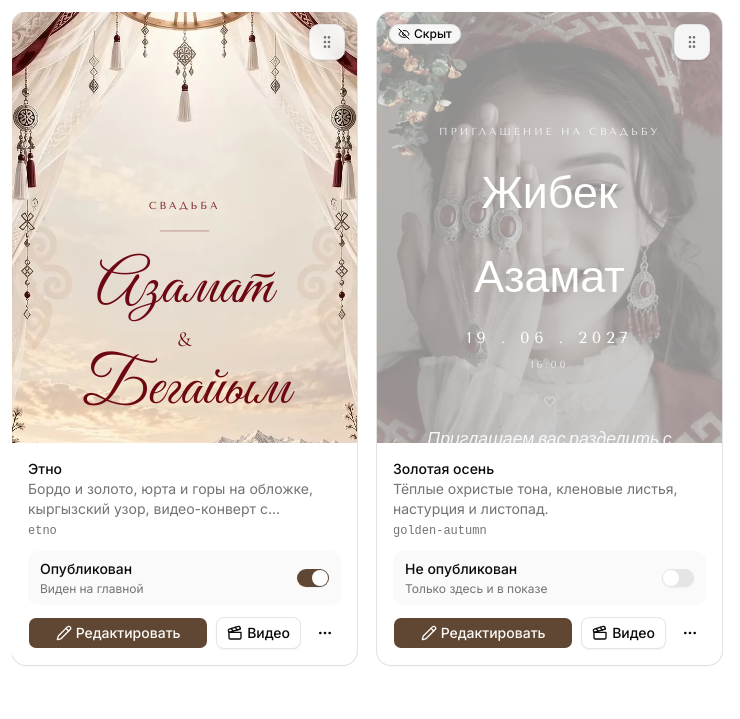
Test: админка: шаблоны › публикация: переключатель на карточке, у скрытого — пометка «Скрыт»; ошибка сервера — переключатель возвращается
Expected: the text "Скрыт" is shown, [389,24,461,44]
Step 1. Click the switch named "Опубликовать шаблон «Этно»" → (313, 578), box [297,569,329,587]
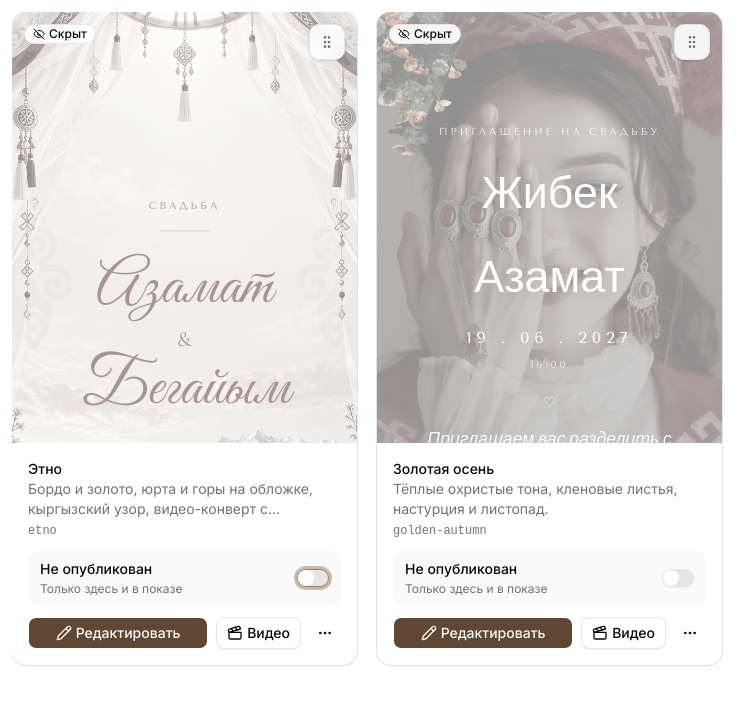
Expected: the text "Скрыт" is shown, [24,24,96,44]
Step 2. Click the switch named "Опубликовать шаблон «Золотая осень»" → (678, 578), box [662,569,694,587]
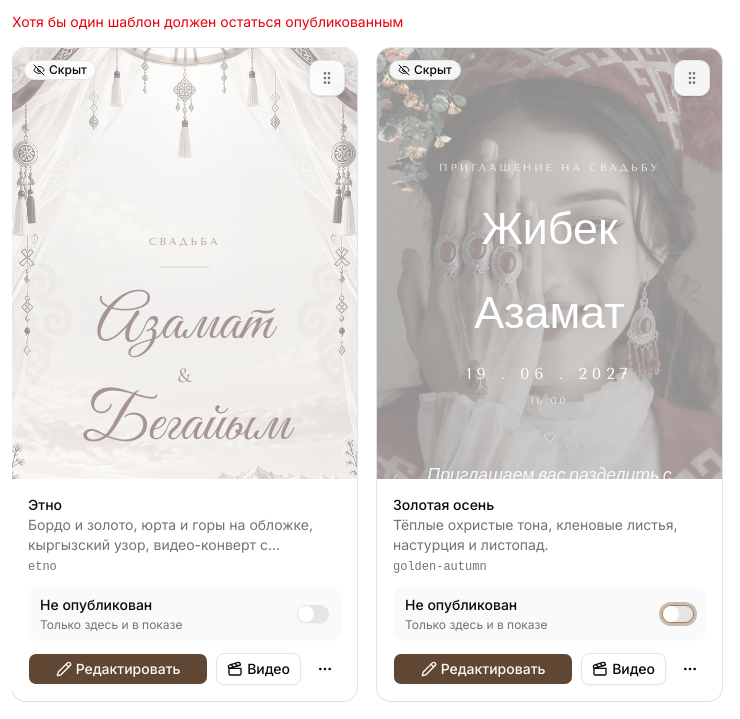
Expected: the message shows "Хотя бы один шаблон", [12,13,403,30]
